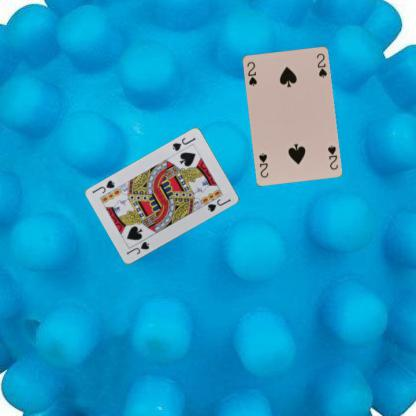2s: (324, 142, 338, 171), (244, 59, 258, 87)
Js: (170, 135, 197, 153), (124, 239, 150, 256)
